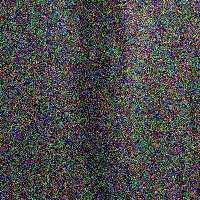inclusion: (67, 1, 133, 197), (179, 56, 199, 166), (58, 108, 78, 168), (172, 155, 193, 200), (175, 18, 190, 50)
